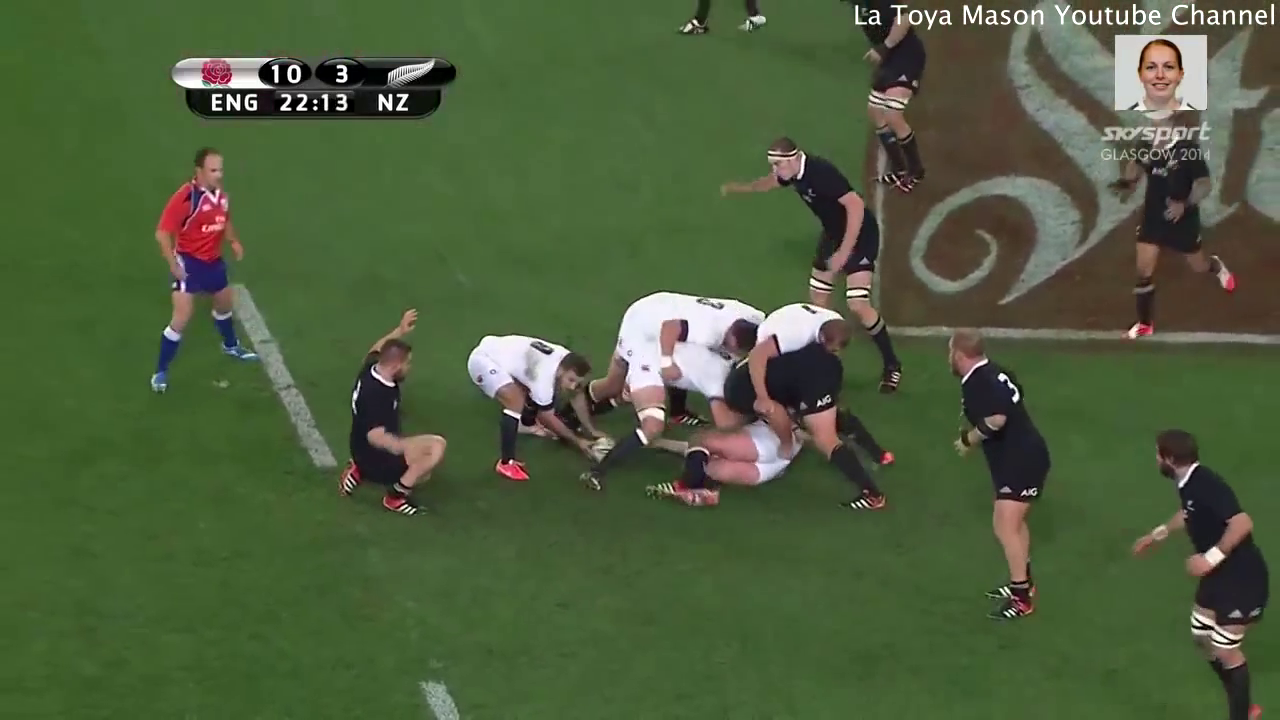ball: (580, 419, 630, 472)
player: (710, 132, 920, 403), (1112, 412, 1280, 720), (936, 320, 1061, 635), (125, 138, 263, 396), (1106, 93, 1242, 352), (715, 336, 905, 521), (325, 296, 453, 522), (553, 264, 757, 404), (449, 312, 589, 502), (633, 389, 822, 517), (841, 1, 951, 202), (738, 278, 859, 418)
